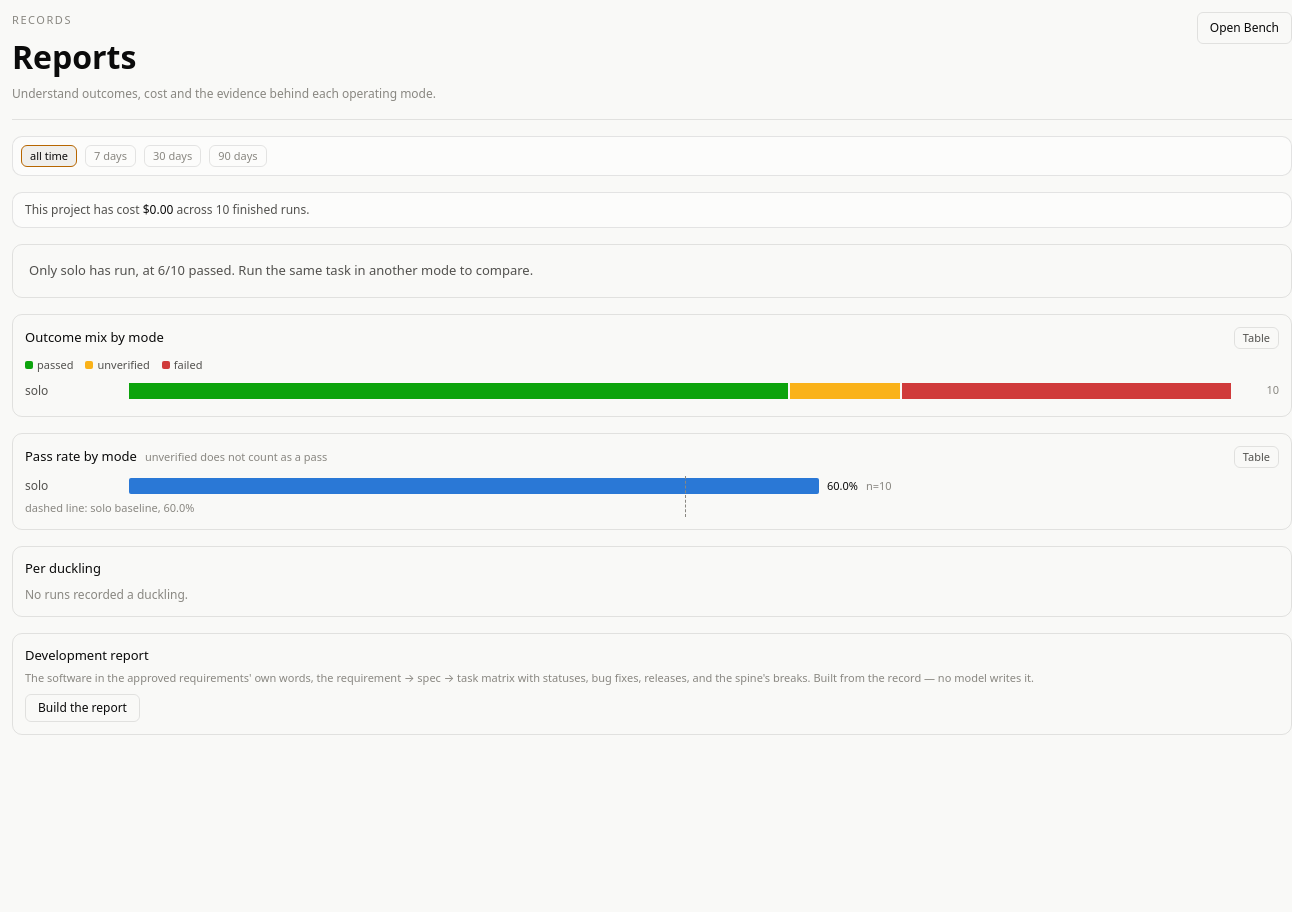
Test case: Reports › swaps any chart for the same data as a table
Check: the element with test id "outcome-mix" is shown, box [25, 357, 1279, 400]
Click the button with test id "table-toggle" in the row of "Outcome mix by mode": (1256, 338) [1234, 326, 1279, 349]
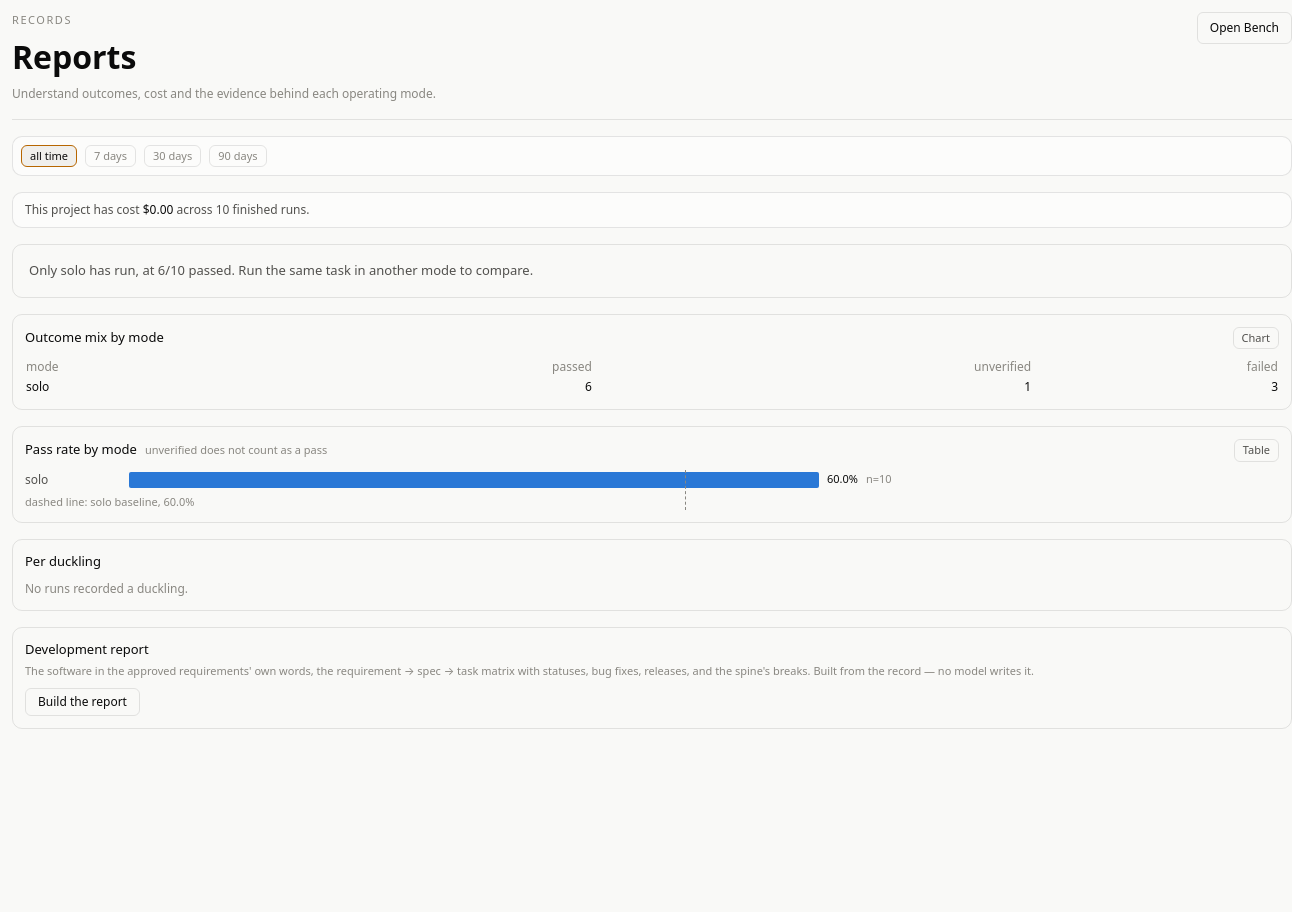
Check: the element with test id "outcome-mix" is gone
